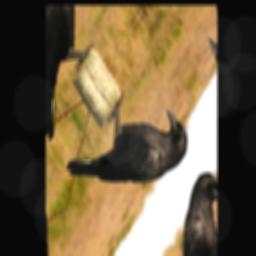Crow: (63, 47, 193, 256)
